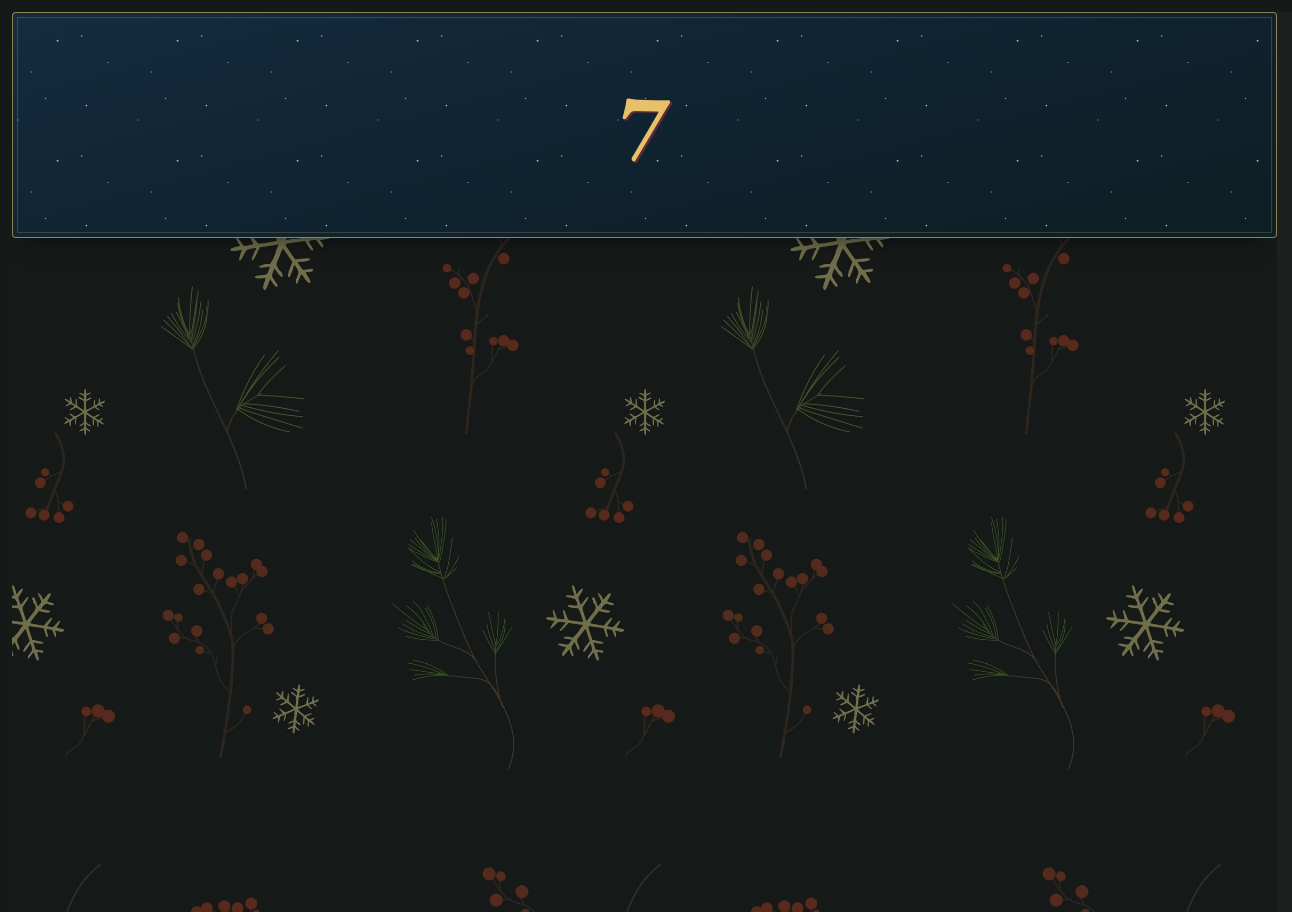
Test: Door › opens on click and updates aria-expanded
Expected: the heading "7+ years in production" is not shown
Click the button named "Door 7, closed" at coordinates (644, 125), box x1=12 y1=12 x2=1277 y2=238
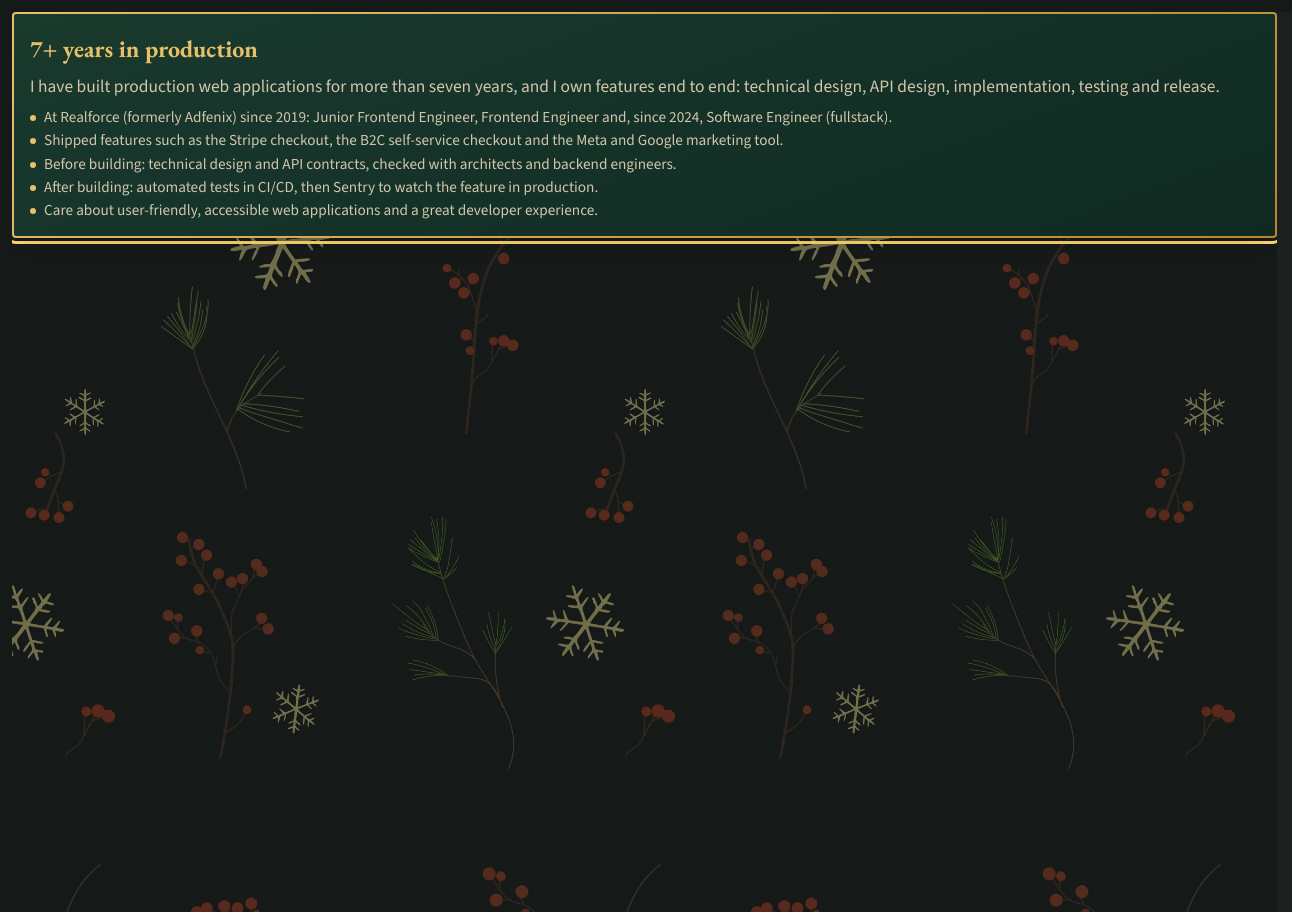
Result: the button named "Door 7, open" is expanded at x1=12 y1=12 x2=1277 y2=238
Result: the heading "7+ years in production" is shown at x1=30 y1=33 x2=258 y2=64
